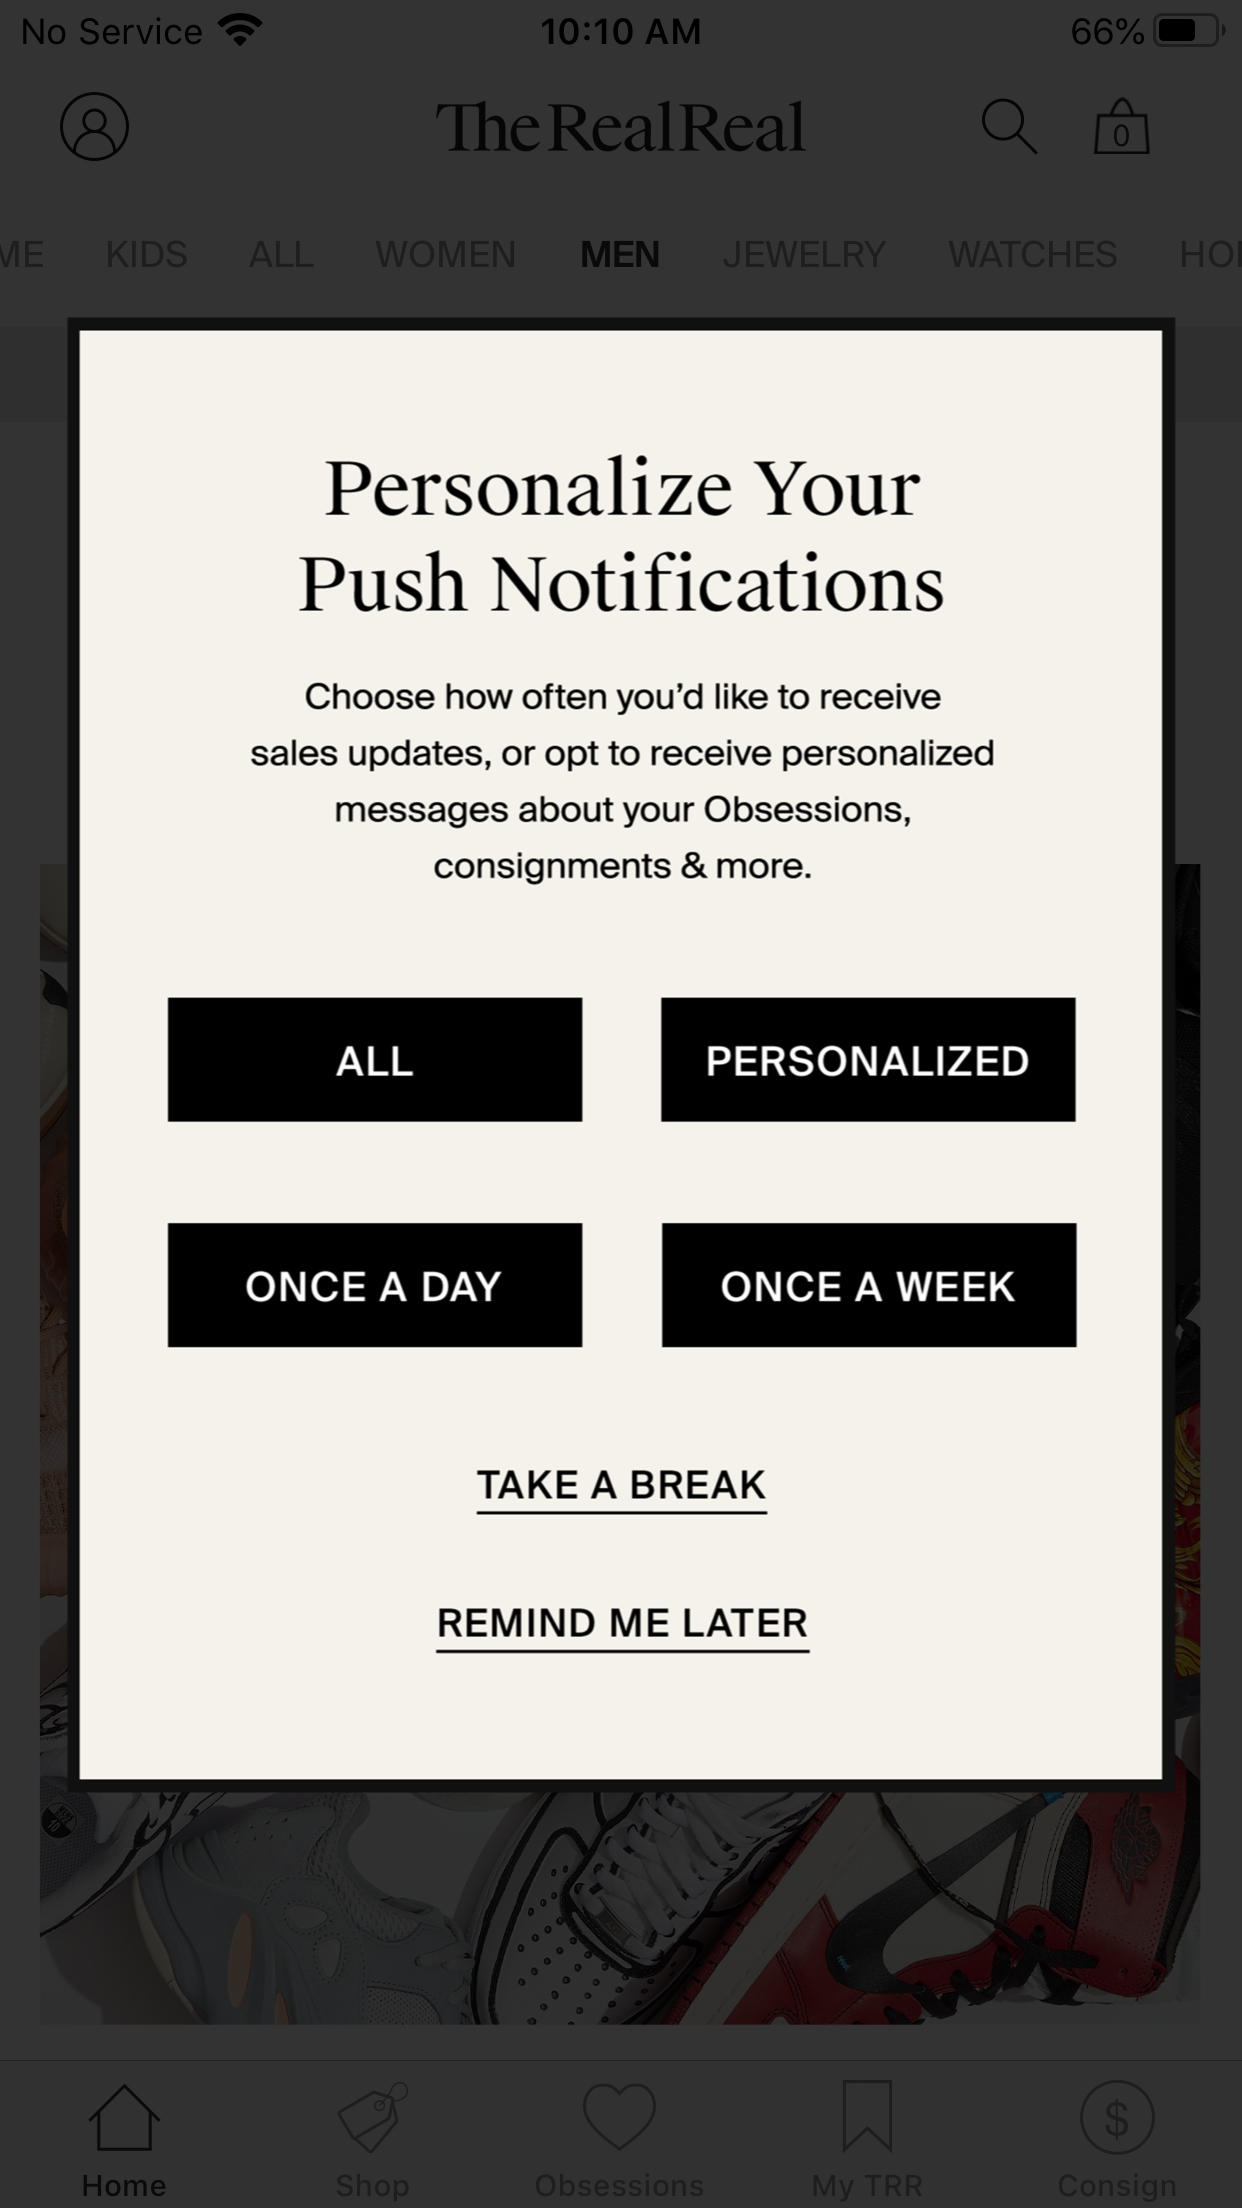Modal: (67, 317, 1175, 1792)
Text: (250, 682, 993, 886), (299, 453, 943, 613), (438, 1607, 808, 1636), (476, 1469, 767, 1498)
TextButton: (167, 996, 584, 1124), (167, 1222, 584, 1348), (661, 1222, 1078, 1348), (660, 996, 1077, 1122)
